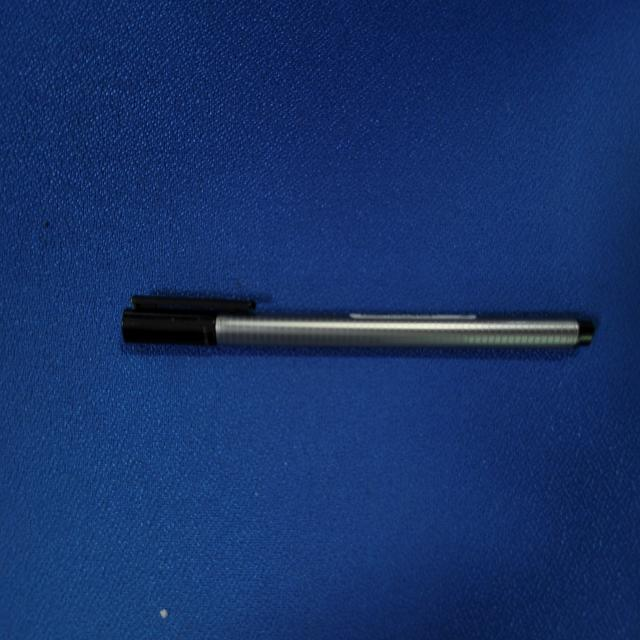caneta: (109, 272, 602, 362)
